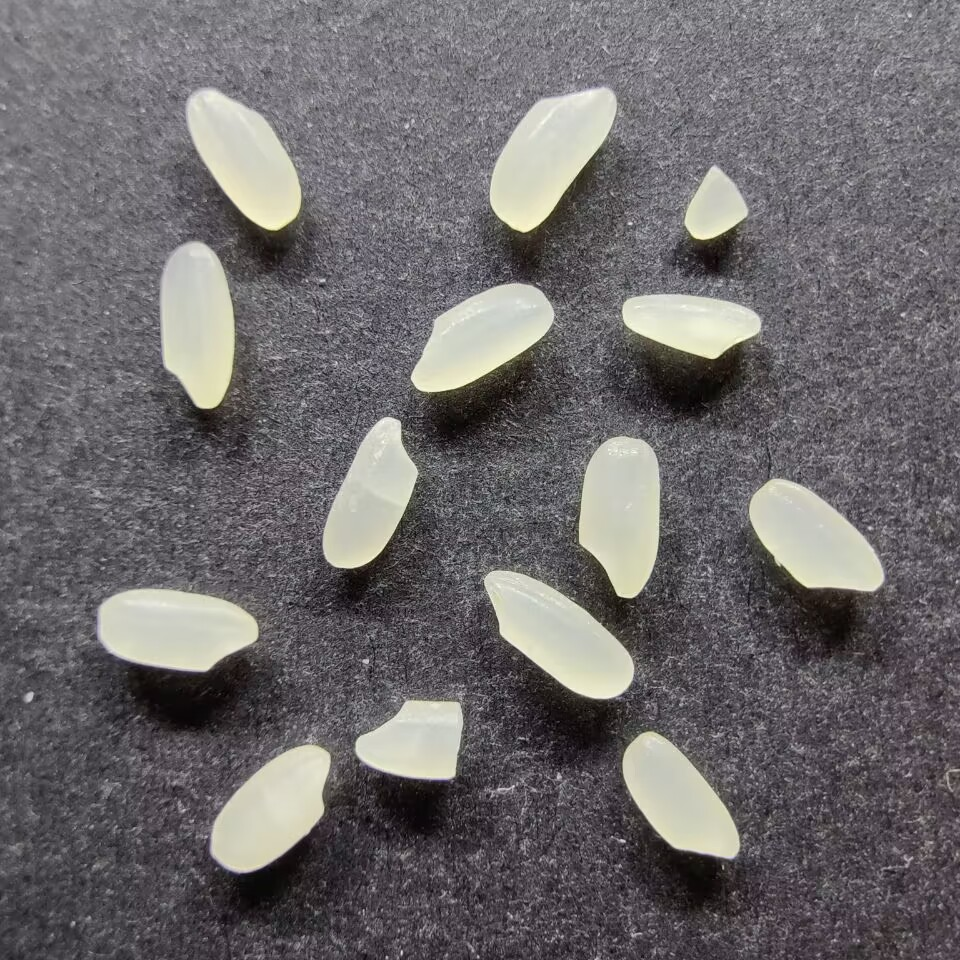broken: (351, 697, 465, 782), (683, 163, 751, 244)
rice: (481, 568, 635, 700), (486, 85, 618, 234), (184, 86, 303, 234), (746, 476, 886, 595), (408, 280, 555, 393), (207, 742, 331, 875), (619, 729, 742, 861), (320, 416, 419, 570), (94, 587, 260, 674), (576, 434, 660, 599), (157, 239, 235, 414), (620, 291, 762, 360)
